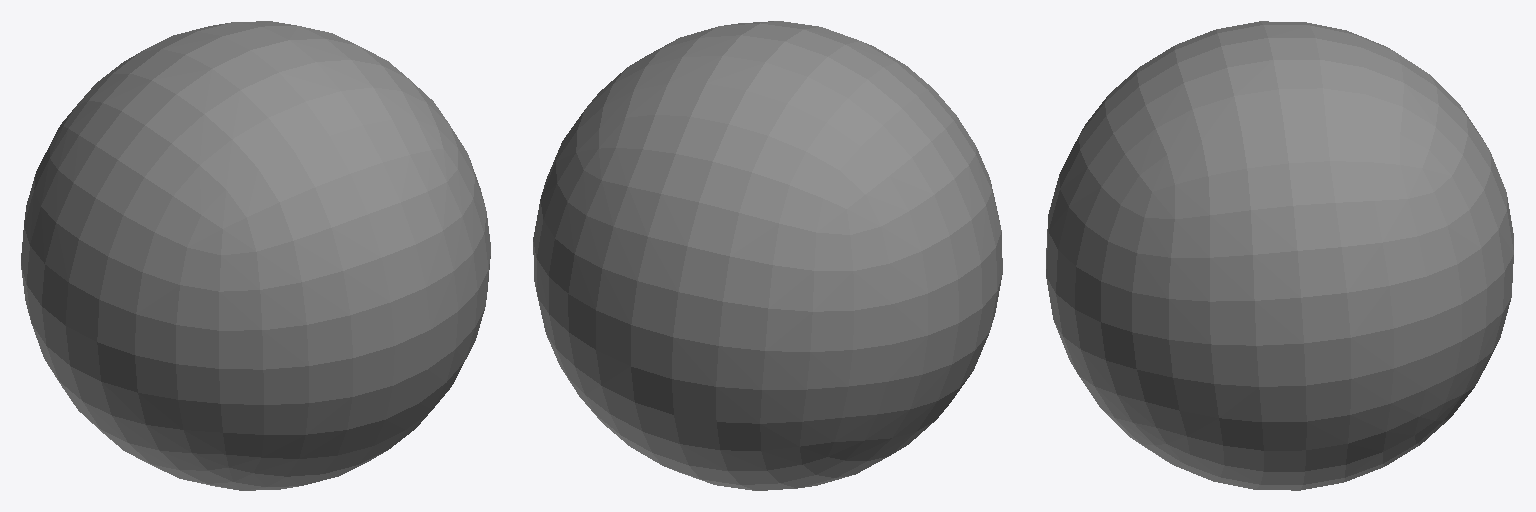
3 renders of one model, left to right at view 1: azimuth 30°, elevation 25°; view 2: azimuth 150°, elevation 25°; view 3: azimuth 270°, elevation 25°, orthographic.
Parts seen in each view (by area): view 1: Earth_Cube_002; view 2: Earth_Cube_002; view 3: Earth_Cube_002.
Part boxes in pixels (left/top/right/bottom): Earth_Cube_002: left=21, top=21, right=490, bottom=490; Earth_Cube_002: left=533, top=21, right=1002, bottom=490; Earth_Cube_002: left=1046, top=21, right=1513, bottom=490.
Size of the model in its own units: 6.31 by 6.33 by 6.31.